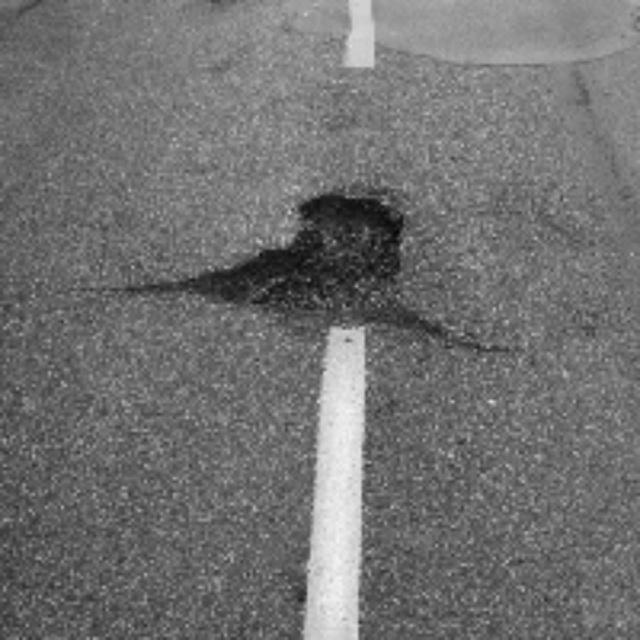Pothole: (218, 215, 397, 340)
